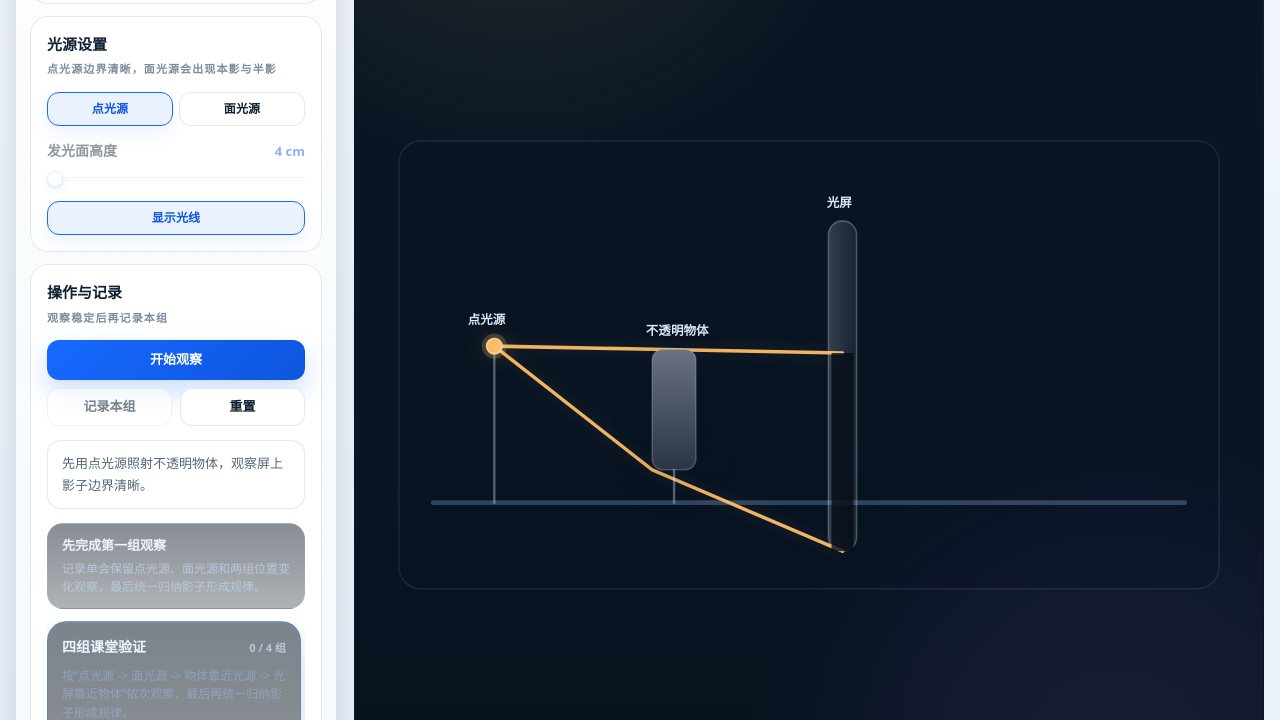
Test: ShadowFormationLab › invalidates the stable reading after changing the screen distance
(page scrolled)
Click the button "开始观察" at (176, 360), box [47, 340, 305, 380]
Wait 1000 ms
(page scrolled)
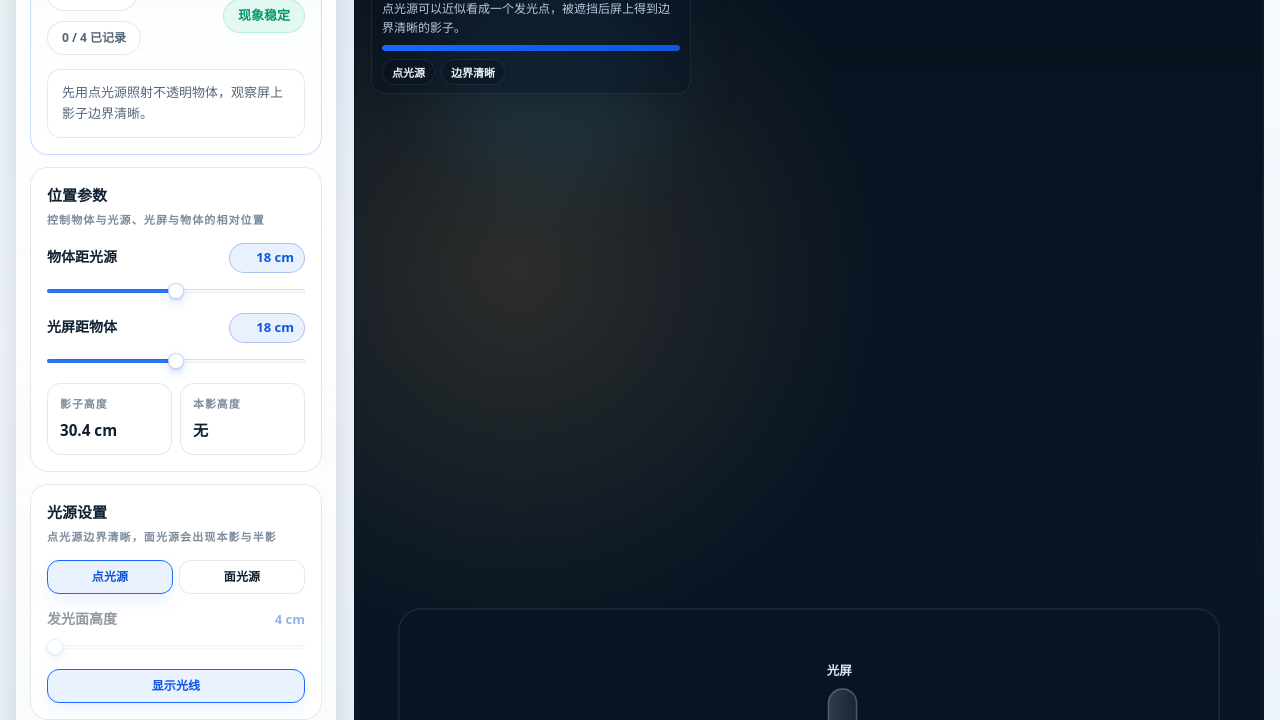
Set the slider labelled "光屏距物体" to "20" at (216, 361), box [47, 353, 305, 369]
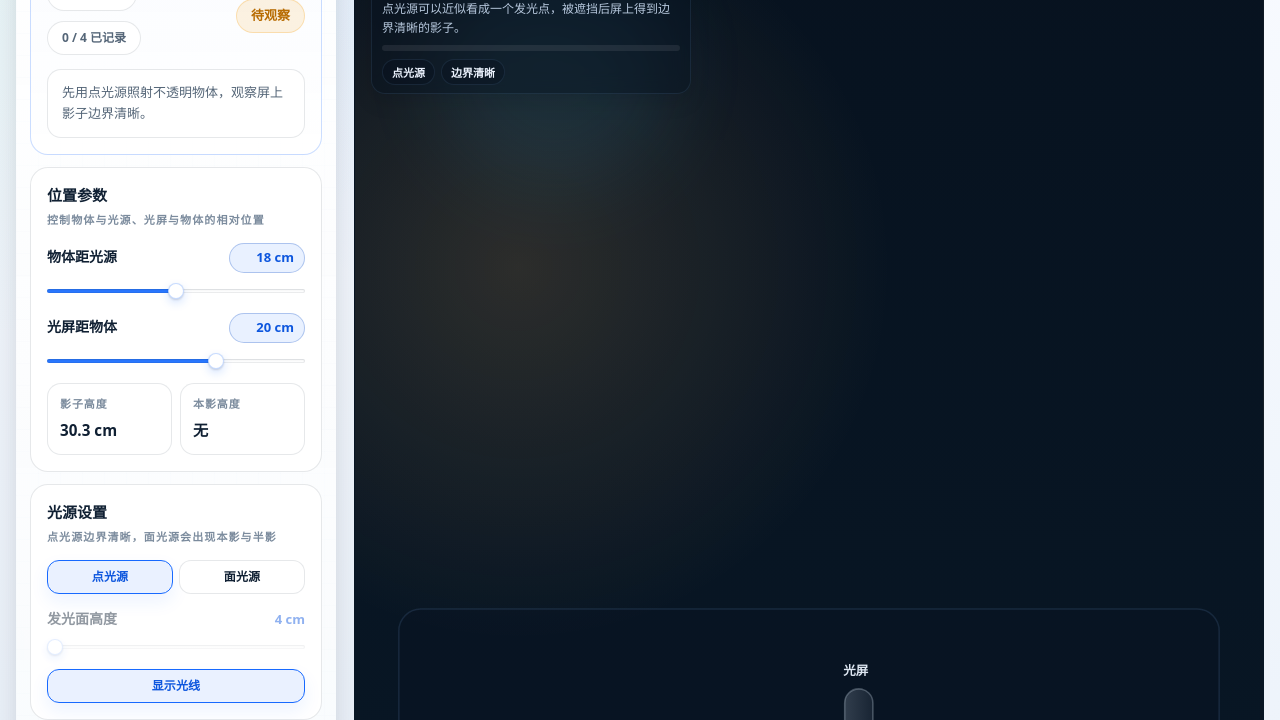
Expected: the text "待观察" is shown, [236, 0, 305, 33]
